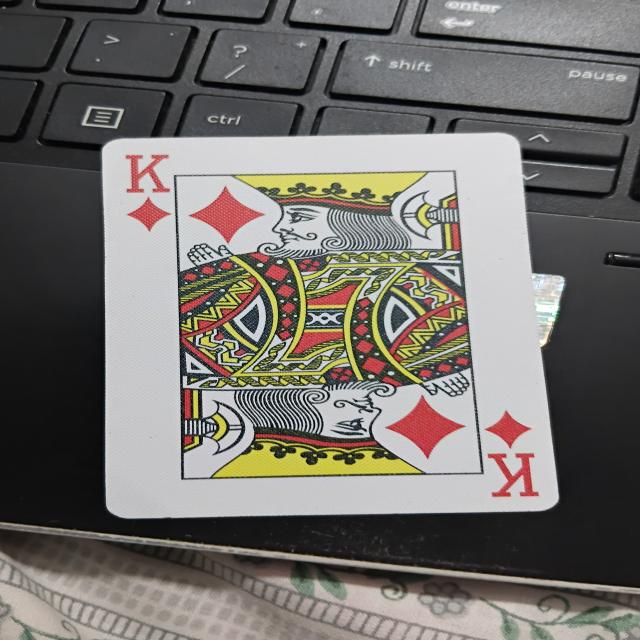KD: (106, 143, 549, 510)
